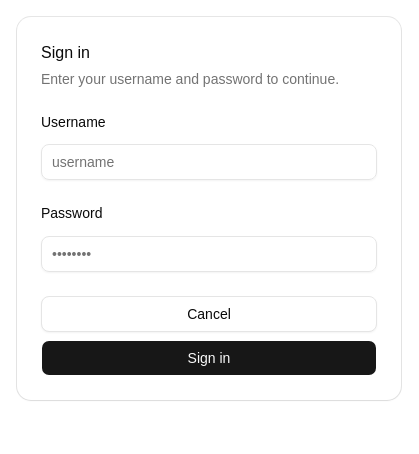
it: SignInForm › displays a server error message when signIn rejects
Step 1. Type "alice" into the field labelled "Username" → coordinates (209, 162), box [41,144,377,180]
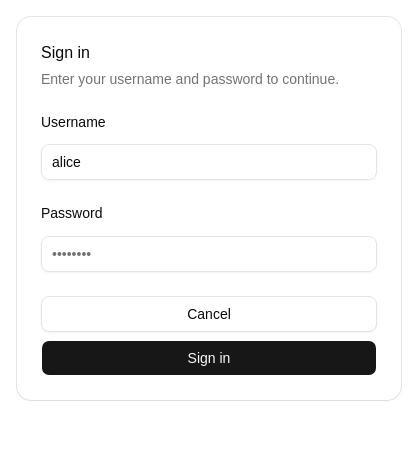
Step 2. Type "wrong" into the password field labelled "Password" → coordinates (209, 254), box [41,236,377,272]
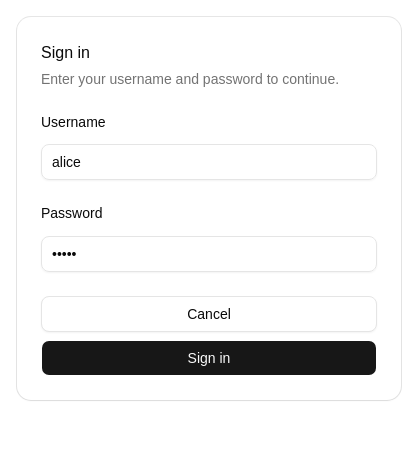
Step 3. Submit the form with id "signin-form", box [41,113,377,272]
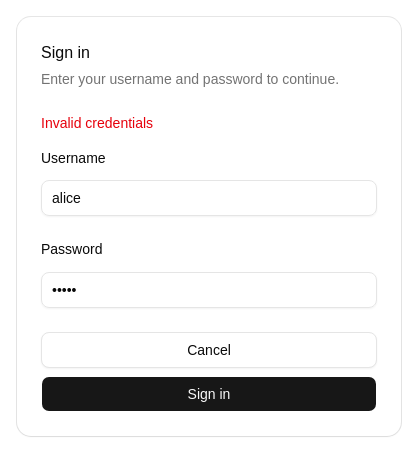
Expected: the message reads "Invalid credentials", [41,115,153,131]
